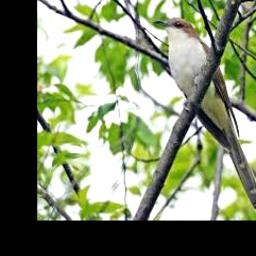Cuckoo: (152, 18, 256, 214)
